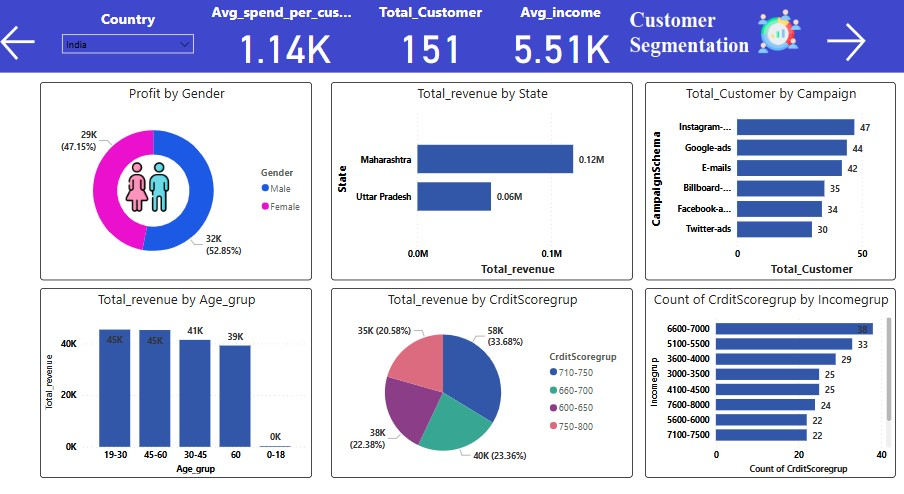

The page's visual inventory and layout, read from the dashboard file:
{"tool":"powerbi","page":{"name":"Customer Segentation","canvas":[1280,720],"ordinal":3},"visuals":[{"type":"donutChart","fields":{"Category":["Customer_Insights.Gender"],"Y":["New_MEASURE.Profit"]},"box":[60.7,124.2,384,279.5],"z":0},{"type":"columnChart","fields":{"Y":["New_MEASURE.Total_revenue"],"Category":["Customer_insight.Age_grup"]},"box":[60.7,415.1,384,268.2],"z":1000},{"type":"pieChart","fields":{"Y":["New_MEASURE.Total_revenue"],"Category":["Customer_insight.CrditScoregrup"]},"box":[471.5,415.1,426.4,268.2],"z":2000},{"type":"barChart","fields":{"Category":["Customer_insight.Incomegrup"],"Y":["CountNonNull(Customer_insight.CrditScoregrup)"]},"box":[914.8,415.1,354.4,268.2],"z":3000},{"type":"slicer","title":"Country","fields":{"Values":["Customer_Insights.Country"]},"box":[81.9,19.8,206.1,76.2],"z":4000},{"type":"barChart","title":"Total_Customer by Campaign","fields":{"Y":["New_MEASURE.Total_Customer"],"Category":["Customer_Insights.CampaignSchema "]},"box":[914.8,124.2,354.4,279.5],"z":5000},{"type":"card","title":"Avg_income","fields":{"Values":["New_MEASURE.Avg_income"]},"box":[712.9,9.9,165.2,96],"z":6000},{"type":"card","title":"Avg_spend_per_customer","fields":{"Values":["New_MEASURE.Avg_spend_per_customer"]},"box":[297.9,9.9,213.2,96],"z":7000},{"type":"card","title":"Total_Customer","fields":{"Values":["New_MEASURE.Total_Customer"]},"box":[529.4,9.9,165.2,96],"z":8000},{"type":"barChart","fields":{"Y":["New_MEASURE.Total_revenue"],"Category":["Customer_insight.State"]},"box":[471.5,124.2,426.4,279.5],"z":9000},{"type":"image","box":[172.2,231.5,80.5,81.9],"z":10000},{"type":"actionButton","box":[0,33.9,158.1,64.9],"z":11000},{"type":"actionButton","box":[1164.7,29.6,94.6,72],"z":12000},{"type":"image","box":[1067.3,0,74.8,105.9],"z":13000}]}

Visuals, with their boxes in screenshot pixels (x1, y1, x2, y2), scaled from the page's 1280x720 canvas onto the 904x494 screenshot:
donutChart - Customer_Insights.Gender x New_MEASURE.Profit: crop(43, 85, 314, 277)
columnChart - New_MEASURE.Total_revenue x Customer_insight.Age_grup: crop(43, 285, 314, 469)
pieChart - New_MEASURE.Total_revenue x Customer_insight.CrditScoregrup: crop(333, 285, 634, 469)
barChart - Customer_insight.Incomegrup x CountNonNull(Customer_insight.CrditScoregrup): crop(646, 285, 896, 469)
"Country" slicer: crop(58, 14, 203, 66)
"Total_Customer by Campaign" barChart: crop(646, 85, 896, 277)
"Avg_income" card: crop(503, 7, 620, 73)
"Avg_spend_per_customer" card: crop(210, 7, 361, 73)
"Total_Customer" card: crop(374, 7, 491, 73)
barChart - New_MEASURE.Total_revenue x Customer_insight.State: crop(333, 85, 634, 277)
image: crop(122, 159, 178, 215)
actionButton: crop(0, 23, 112, 68)
actionButton: crop(823, 20, 889, 70)
image: crop(754, 0, 807, 73)
